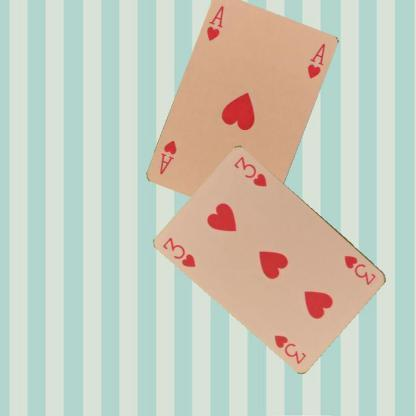3h: (341, 252, 378, 286), (160, 235, 197, 268)
Ah: (204, 3, 226, 43)
